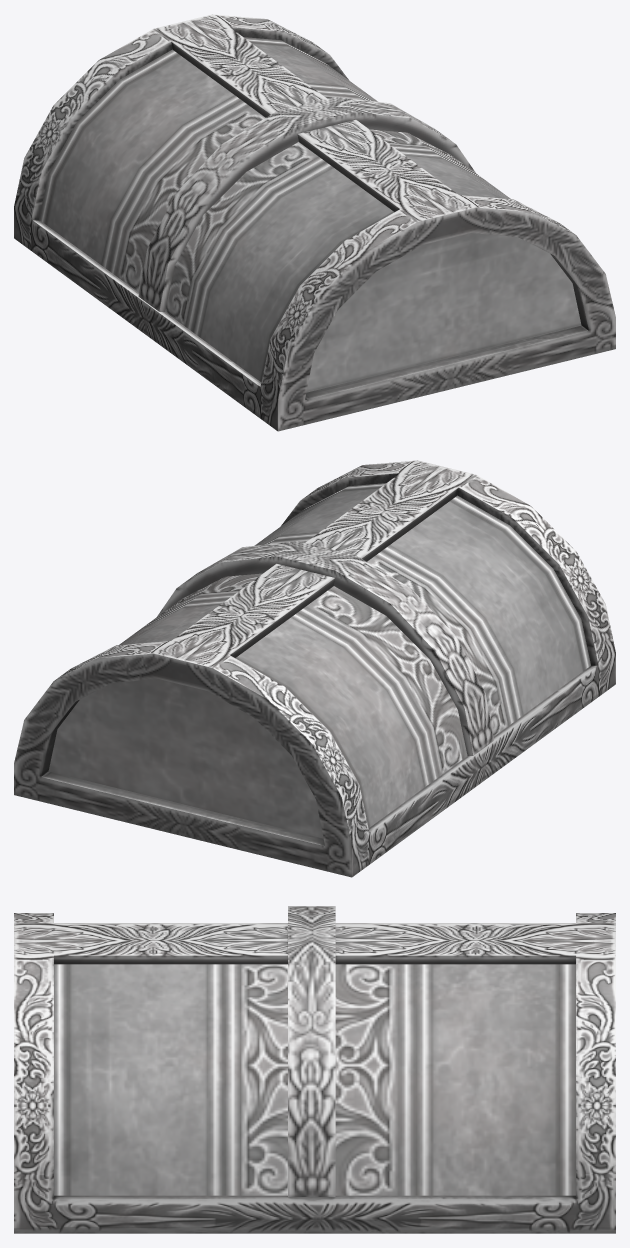
The model's file is SM_Jewelry_Box_Cover_B_Silver.fbx.
3 renders of one model, top to bottom at view 1: azimuth 30°, elevation 25°; view 2: azimuth 150°, elevation 25°; view 3: azimuth 270°, elevation 25°, orthographic. The views are drawn at different scales.
Parts seen in each view (by area): view 1: SM_Jewelry_Box_Cover_B_Silver_LOD0; view 2: SM_Jewelry_Box_Cover_B_Silver_LOD0; view 3: SM_Jewelry_Box_Cover_B_Silver_LOD0.
Part boxes in pixels (x1,y1,x2,y2): SM_Jewelry_Box_Cover_B_Silver_LOD0: (14,14,615,431); SM_Jewelry_Box_Cover_B_Silver_LOD0: (14,460,615,877); SM_Jewelry_Box_Cover_B_Silver_LOD0: (14,906,615,1233).
Bounding box in the file's own units: 15.79 × 21.35 × 8.16.
1 material, 1 textured.
